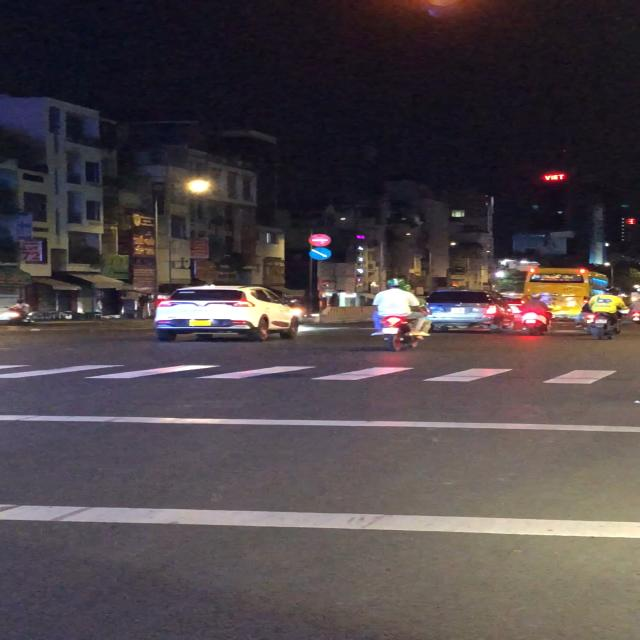Bien bao cam di nguoc chieu: (308, 233, 334, 247)
Bien bao huong phai di vong chuong ngai vat: (309, 247, 333, 260)
